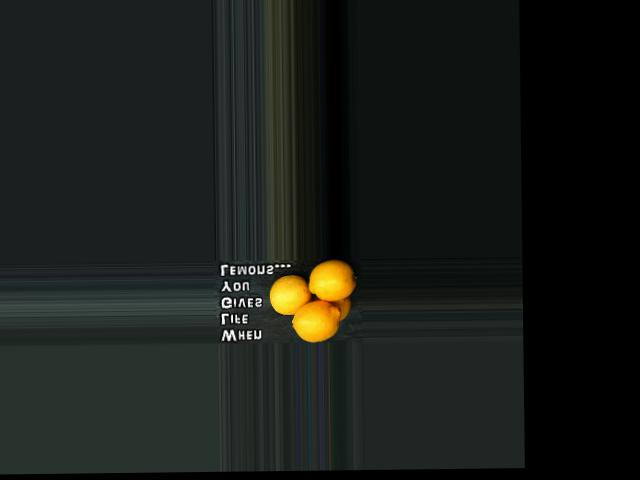lemon: (305, 262, 356, 300)
